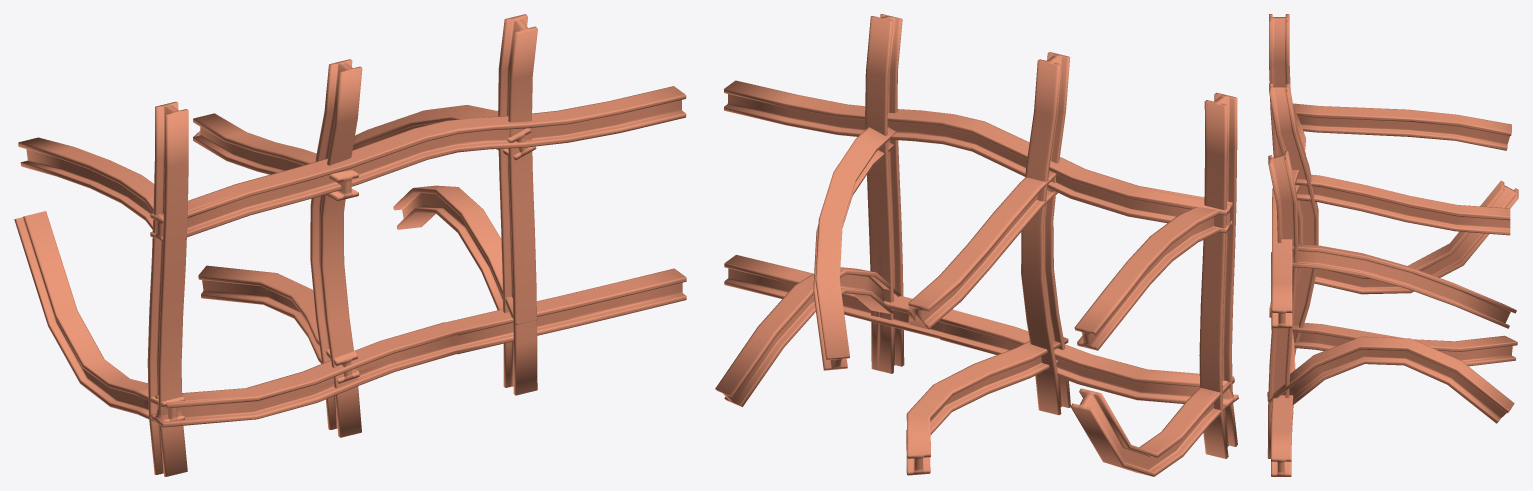
File: Industrial_Ruin_Mid_1.fbx
3 renders of one model, left to right at view 1: azimuth 30°, elevation 25°; view 2: azimuth 150°, elevation 25°; view 3: azimuth 270°, elevation 25°, orthographic. The views are drawn at different scales.
Parts seen in each view (by area): view 1: NurbsPath.031; view 2: NurbsPath.031; view 3: NurbsPath.031.
Part boxes in pixels (left/top/right/bottom): NurbsPath.031: left=14, top=14, right=686, bottom=476; NurbsPath.031: left=715, top=14, right=1238, bottom=476; NurbsPath.031: left=1267, top=14, right=1518, bottom=476.
Size of the model in its own units: 602 by 407 by 307.
